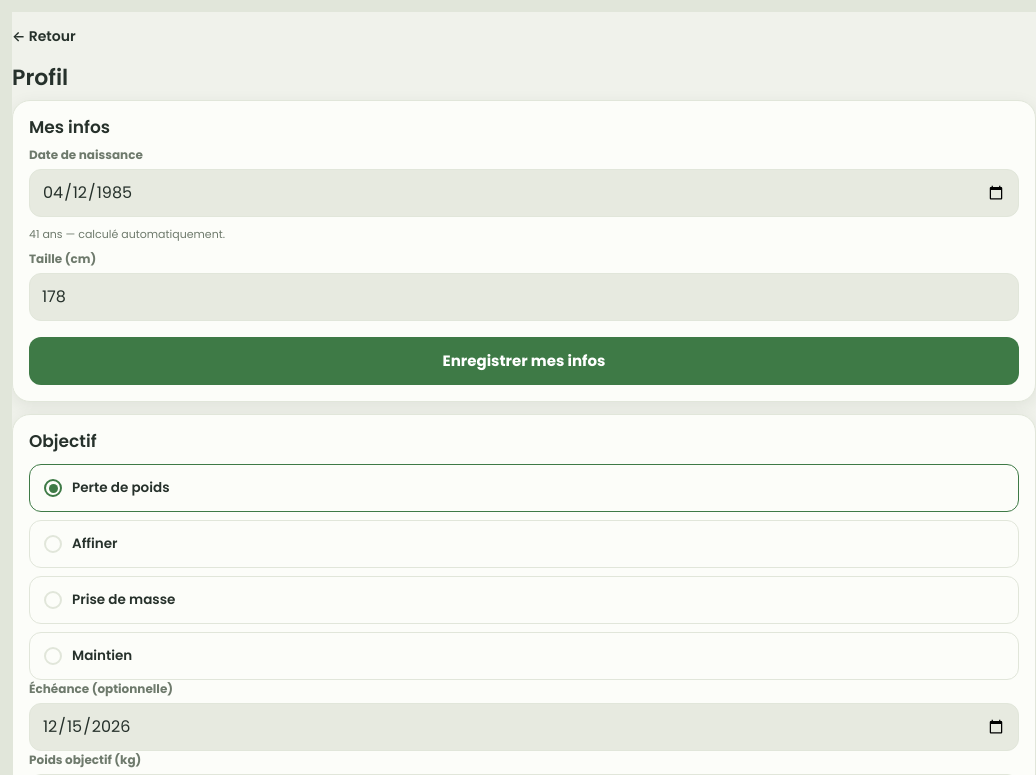
ProfilScreen (unité) › date de naissance vidée : le hint propose de saisir (pas d’âge fantôme « 2026 ans »)
The width and height of the screenshot is (1036, 775).
Expected: the text "41 ans — calculé automatiquement." is shown, [29,226,225,242]
Clear the date field labelled "Date de naissance" at (524, 193), box [29,169,1019,217]
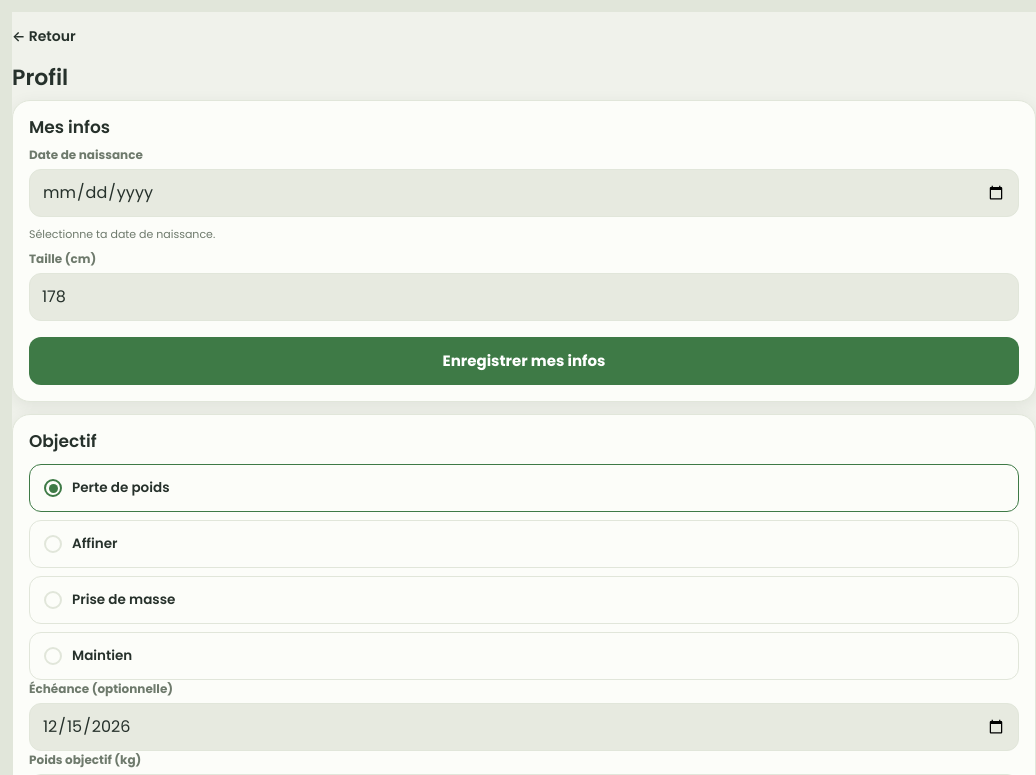
Expected: the text "Sélectionne ta date de naissance." is shown, [29,226,215,242]
